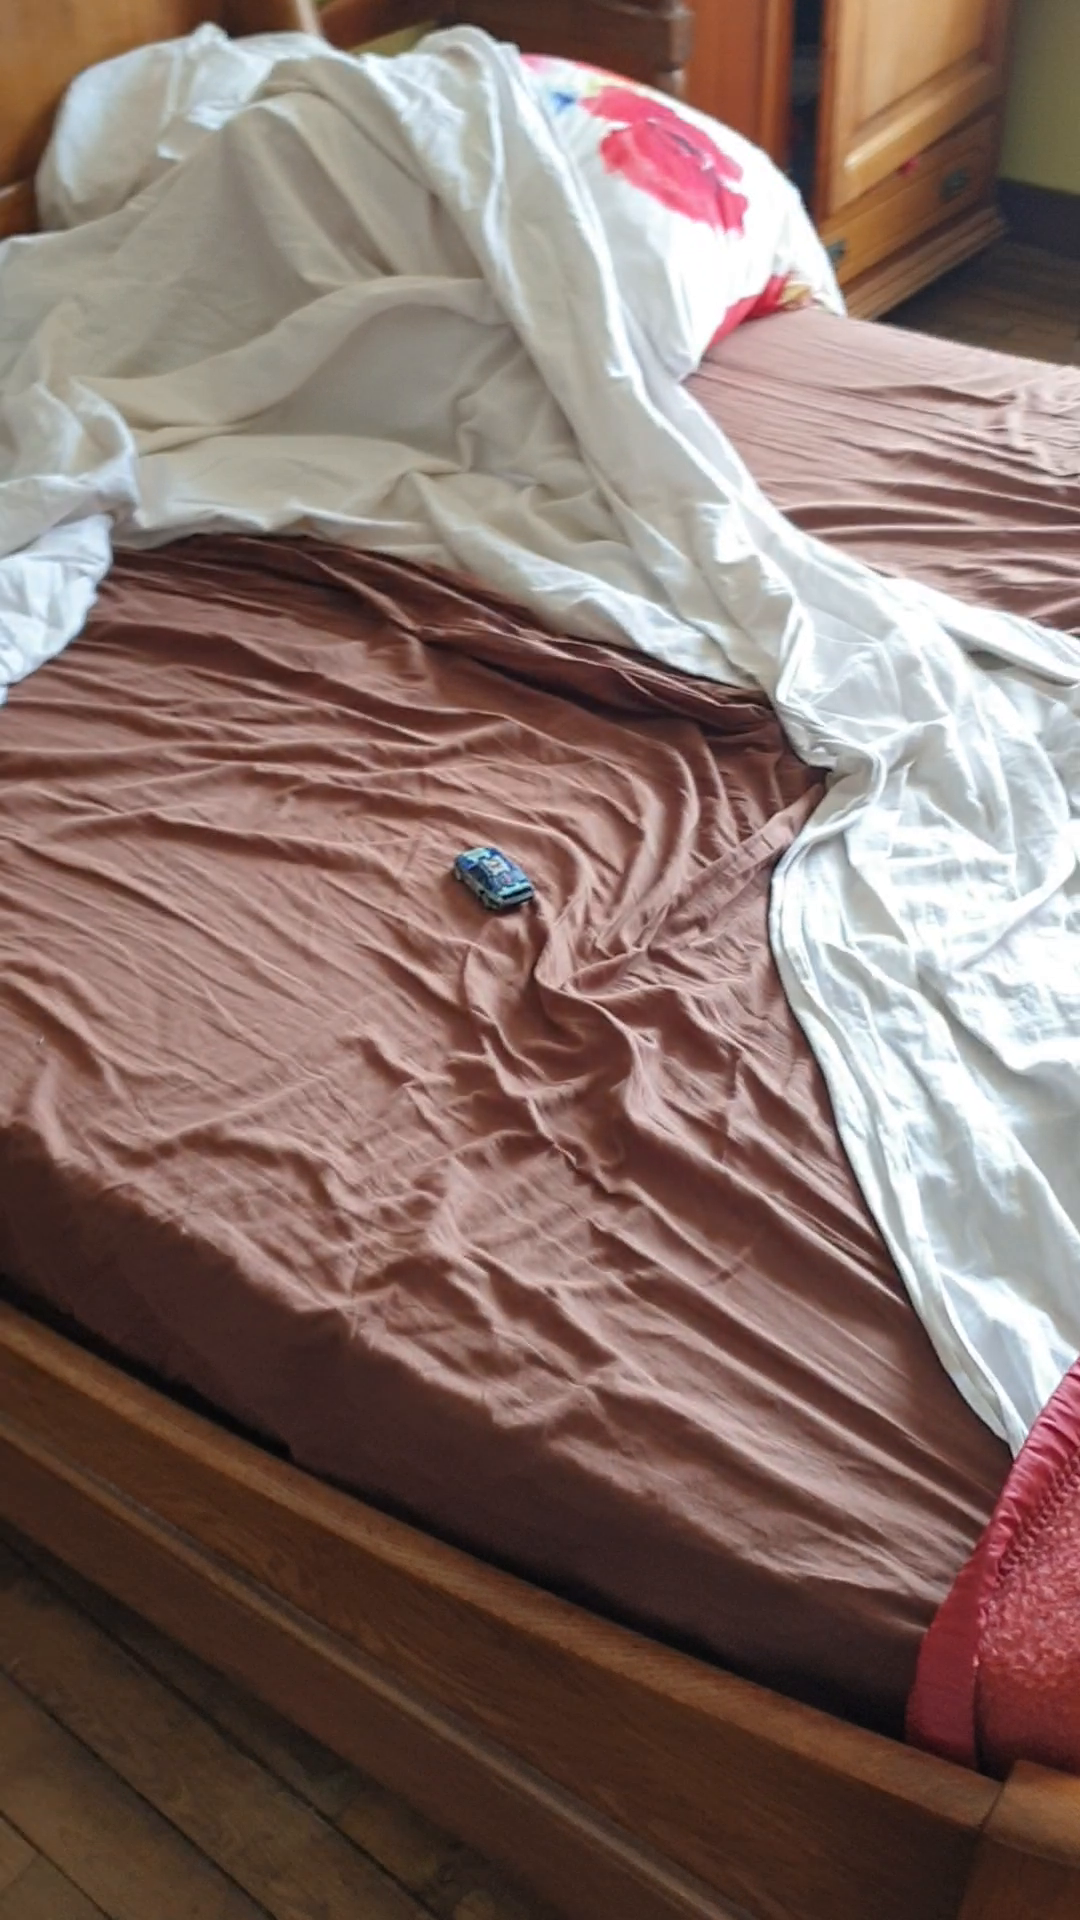cars: (452, 847, 535, 911)
